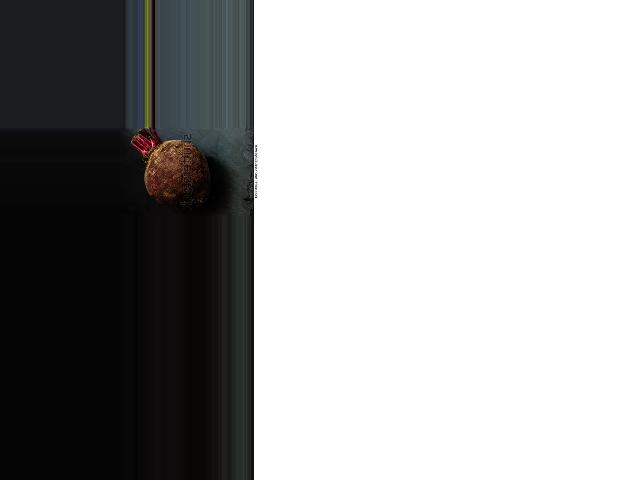beet: (131, 127, 210, 207)
